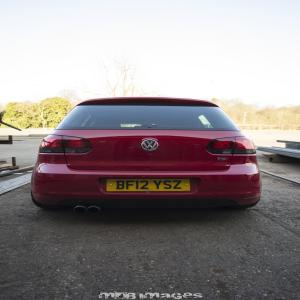Vehicle-registration-plate: (106, 179, 192, 193)
